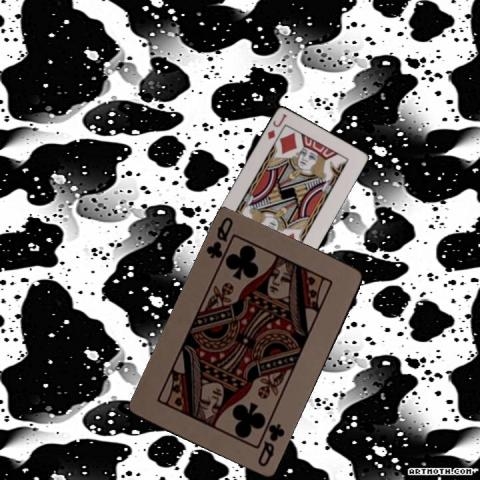Jd: (264, 110, 289, 140)
Qc: (202, 214, 234, 261), (255, 420, 286, 468)
